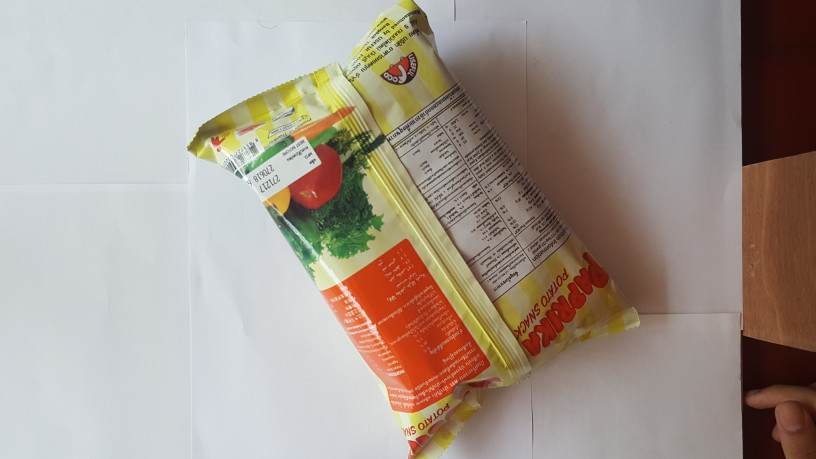paprika: (176, 1, 646, 459)
